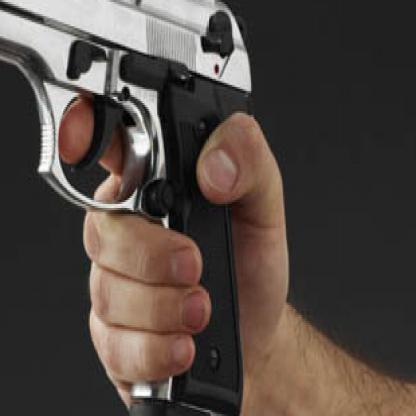gun: (0, 0, 244, 414)
